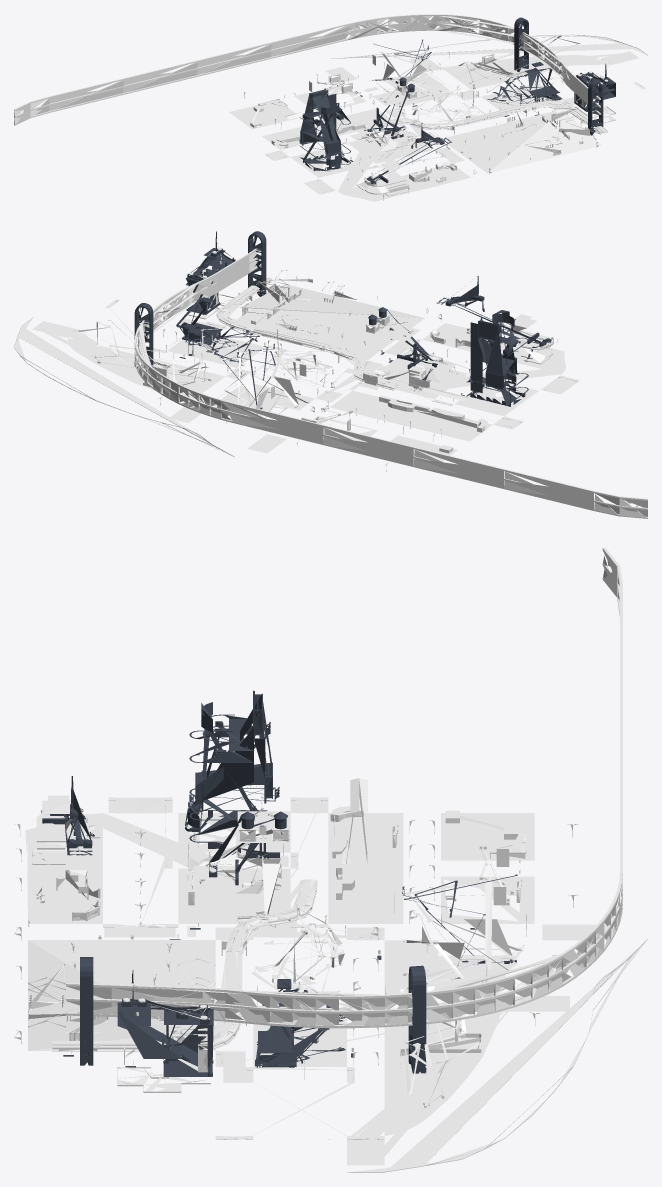
File: street_island2_08.glb
3 renders of one model, top to bottom at view 1: azimuth 30°, elevation 25°; view 2: azimuth 150°, elevation 25°; view 3: azimuth 270°, elevation 25°, orthographic. The views are drawn at different scales.
Visible parts, largest first — view 1: seg_952, seg_381, seg_958, seg_415, seg_972, seg_418, seg_1016, seg_423, seg_421, seg_369, seg_417, seg_24 (+26 smaller); view 2: seg_952, seg_381, seg_958, seg_415, seg_423, seg_418, seg_972, seg_1016, seg_24, seg_417, seg_369, seg_431 (+25 smaller); view 3: seg_958, seg_381, seg_415, seg_423, seg_418, seg_1016, seg_972, seg_571, seg_421, seg_369, seg_24, seg_952 (+23 smaller).
Boxes of the visible parts, x1=… form: seg_952: x1=14, y1=15, x2=403, y2=125; seg_381: x1=441, y1=109, x2=601, y2=173; seg_958: x1=399, y1=14, x2=600, y2=114; seg_415: x1=337, y1=129, x2=470, y2=201; seg_972: x1=300, y1=89, x2=350, y2=170; seg_418: x1=442, y1=55, x2=599, y2=89; seg_1016: x1=331, y1=34, x2=647, y2=58; seg_423: x1=262, y1=108, x2=391, y2=149; seg_421: x1=229, y1=102, x2=300, y2=129; seg_369: x1=382, y1=72, x2=453, y2=107; seg_417: x1=481, y1=83, x2=561, y2=110; seg_24: x1=303, y1=94, x2=348, y2=170; seg_952: x1=169, y1=380, x2=647, y2=518; seg_381: x1=228, y1=282, x2=424, y2=360; seg_958: x1=134, y1=248, x2=261, y2=401; seg_415: x1=377, y1=323, x2=565, y2=398; seg_423: x1=330, y1=390, x2=492, y2=441; seg_418: x1=67, y1=338, x2=225, y2=401; seg_972: x1=466, y1=317, x2=528, y2=405; seg_1016: x1=14, y1=317, x2=234, y2=456; seg_24: x1=470, y1=310, x2=525, y2=406; seg_417: x1=167, y1=335, x2=265, y2=367; seg_369: x1=213, y1=383, x2=314, y2=416; seg_431: x1=455, y1=384, x2=538, y2=416; seg_958: x1=65, y1=919, x2=603, y2=1028; seg_381: x1=28, y1=940, x2=215, y2=1050; seg_415: x1=25, y1=813, x2=290, y2=923; seg_423: x1=328, y1=813, x2=403, y2=923; seg_418: x1=384, y1=1011, x2=500, y2=1135; seg_1016: x1=347, y1=939, x2=647, y2=1172; seg_972: x1=189, y1=690, x2=279, y2=842; seg_571: x1=117, y1=1002, x2=213, y2=1076; seg_421: x1=441, y1=813, x2=534, y2=860; seg_369: x1=384, y1=940, x2=517, y2=994; seg_24: x1=185, y1=702, x2=253, y2=848; seg_952: x1=596, y1=547, x2=622, y2=960.
Size of the model in its own units: 694 by 90.52 by 338.
